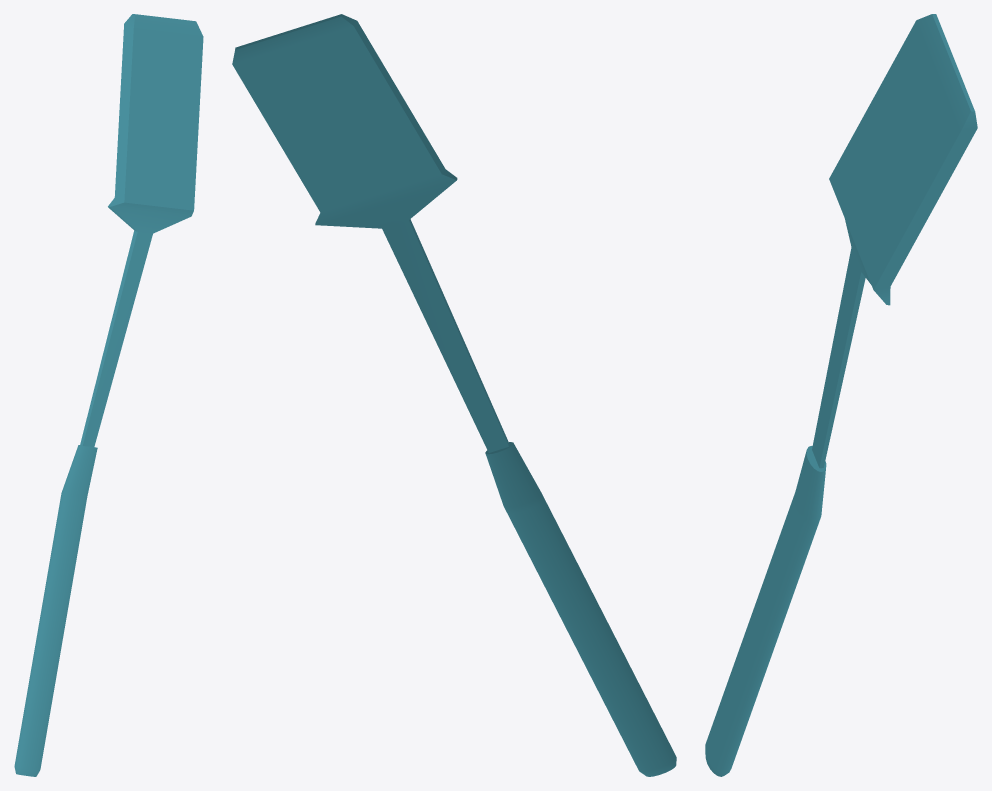
The model's file is Spatula_69b27ccb.obj.
3 views of the same model, side by side, from view 1: azimuth 30°, elevation 25°; view 2: azimuth 150°, elevation 25°; view 3: azimuth 270°, elevation 25° (orthographic). The views are drawn at different scales.
Parts seen in each view (by area): view 1: Spatula_69b27ccb; view 2: Spatula_69b27ccb; view 3: Spatula_69b27ccb.
Boxes of the visible parts, left/top/right/bottom form: Spatula_69b27ccb: left=14, top=14, right=203, bottom=776; Spatula_69b27ccb: left=232, top=14, right=676, bottom=776; Spatula_69b27ccb: left=705, top=14, right=977, bottom=776.
Size of the model in its own units: 0.1133 by 0.2547 by 0.0715.
